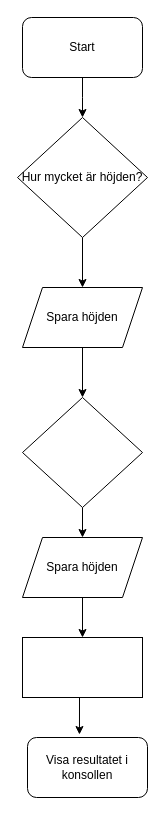
The diagram is 165 pixels wide and 815 high, and some of its shapes have lost their labels. Here are the shapes that lost their labels. From the top down, the centre of each, then its label:
the point at 82,452: Hur mycket är bredden?
the point at 82,667: Räkna ut arean
